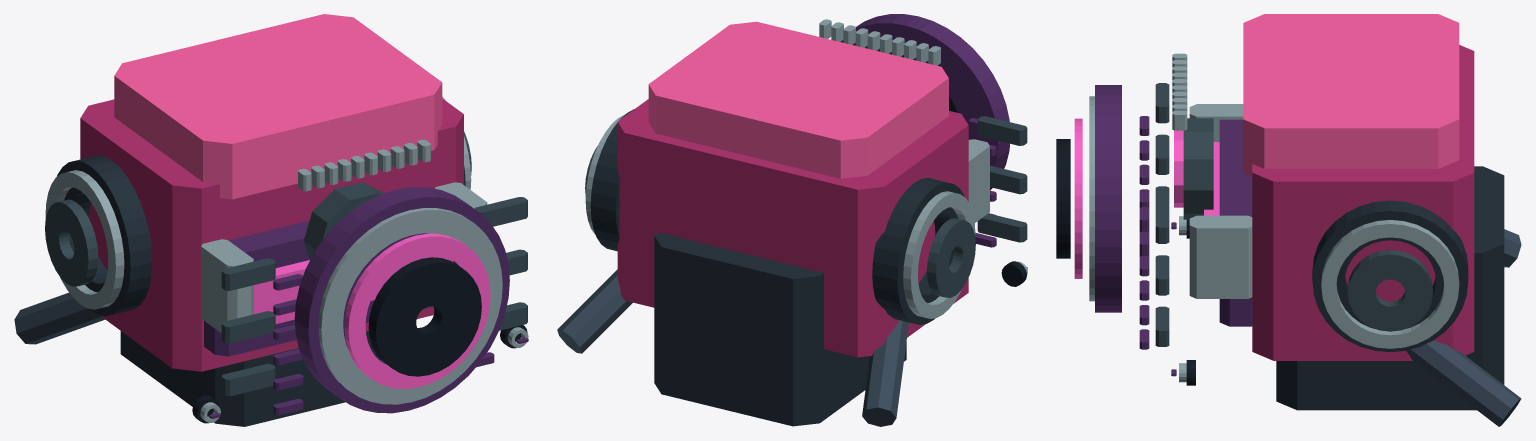
The model's file is enemy_striker_4k_head.obj.
The picture shows the model from 3 angles, left to right: view 1: azimuth 30°, elevation 25°; view 2: azimuth 150°, elevation 25°; view 3: azimuth 270°, elevation 25°; orthographic projection. The views are drawn at different scales.
Bounding box in the file's own units: 0.723 × 0.545 × 0.7758.
